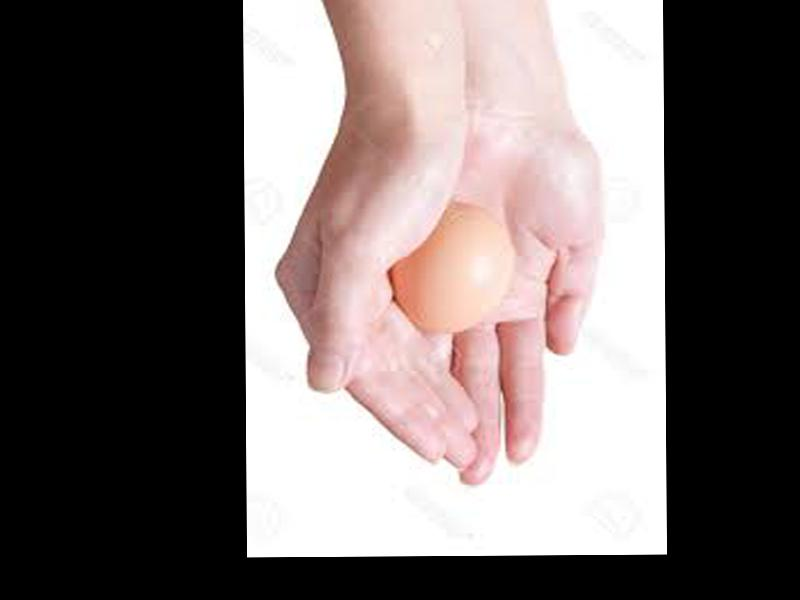Eggs: (393, 209, 508, 332)
